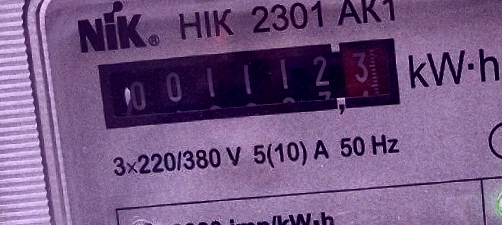0: (161, 67, 185, 106), (125, 76, 149, 113)
1: (199, 62, 220, 101), (237, 59, 253, 98), (275, 55, 291, 93)
2: (308, 52, 332, 90)
3: (349, 49, 369, 85)
screen: (89, 34, 407, 133)
